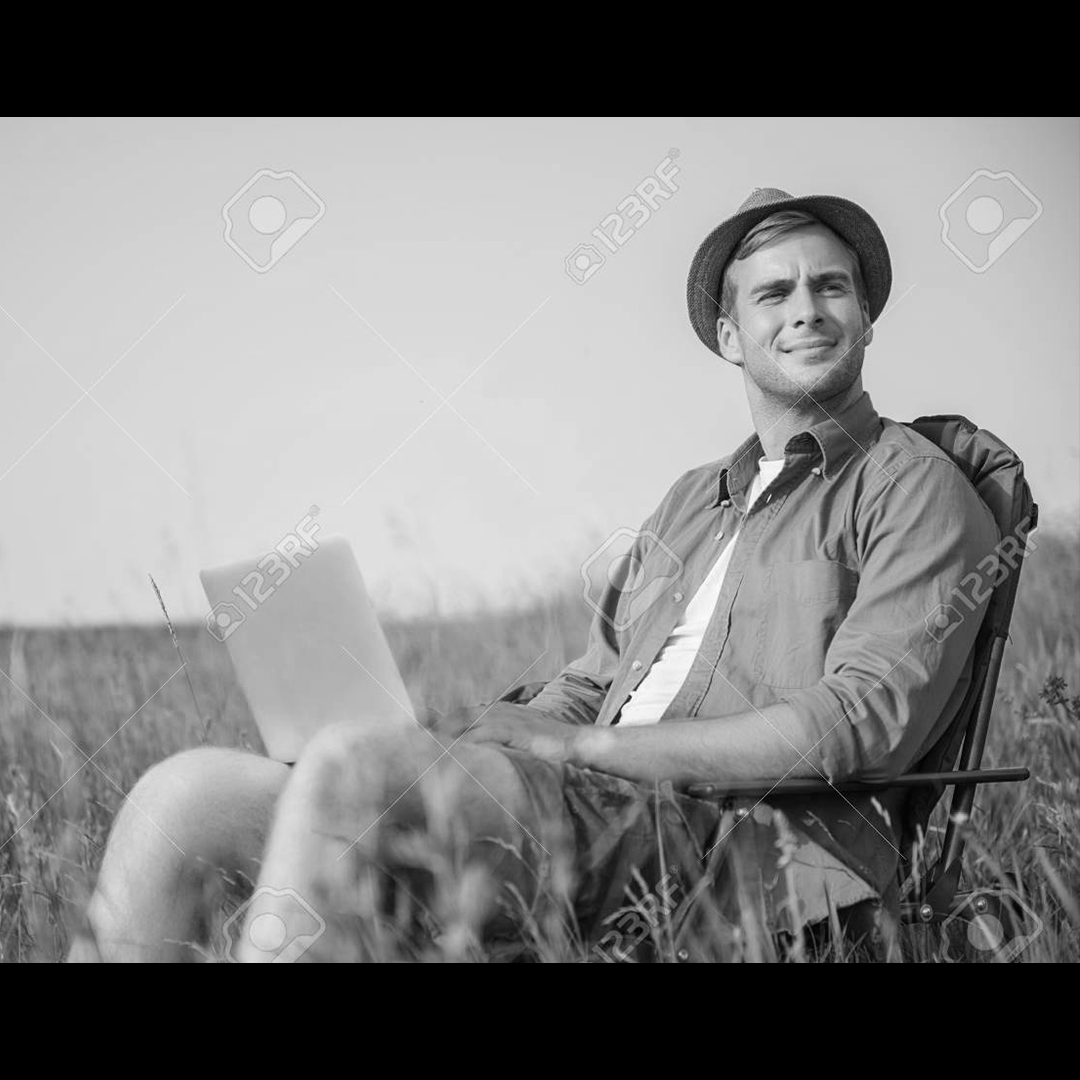distracted: (654, 137, 1015, 633)
